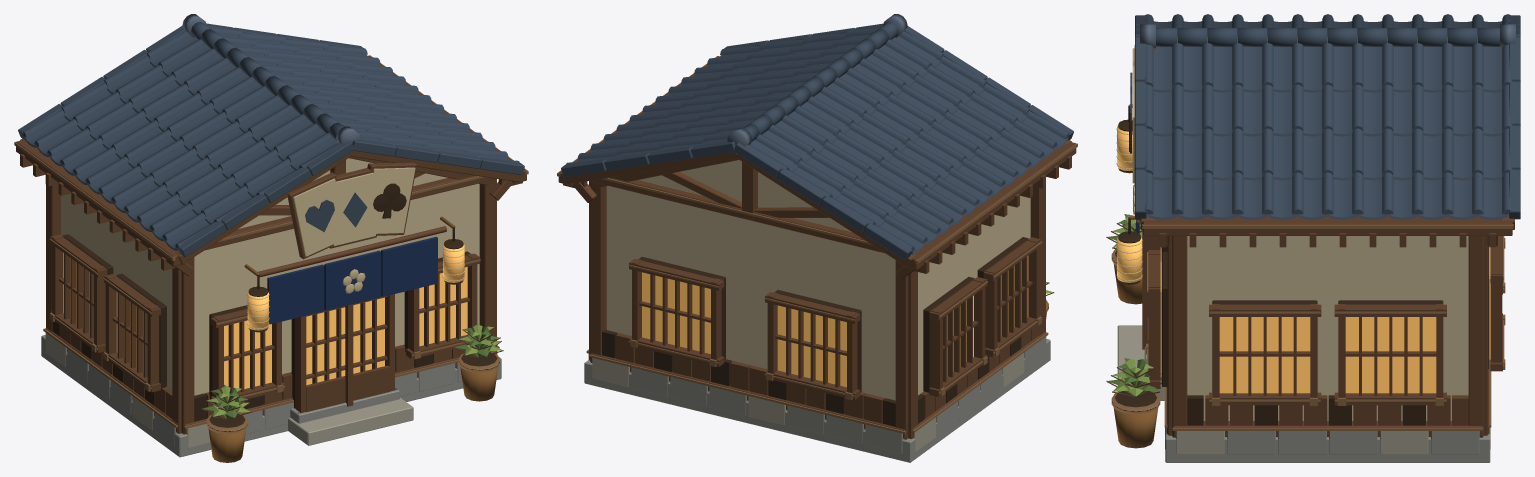
3 views of the same model, side by side, from view 1: azimuth 30°, elevation 25°; view 2: azimuth 150°, elevation 25°; view 3: azimuth 270°, elevation 25° (orthographic). The views are drawn at different scales.
Visible parts, largest first — view 1: compact_card_pavilion_geometry, compact_card_pavilion_geometry ceramic; view 2: compact_card_pavilion_geometry, compact_card_pavilion_geometry ceramic; view 3: compact_card_pavilion_geometry, compact_card_pavilion_geometry ceramic.
Part boxes in pixels (<box>): compact_card_pavilion_geometry: <box>14,36,528,462</box>; compact_card_pavilion_geometry ceramic: <box>18,14,524,256</box>; compact_card_pavilion_geometry: <box>557,37,1077,462</box>; compact_card_pavilion_geometry ceramic: <box>561,14,1073,259</box>; compact_card_pavilion_geometry: <box>1106,22,1514,462</box>; compact_card_pavilion_geometry ceramic: <box>1130,14,1520,219</box>.
Size of the model in its own units: 1.04 by 0.817 by 0.8874.
